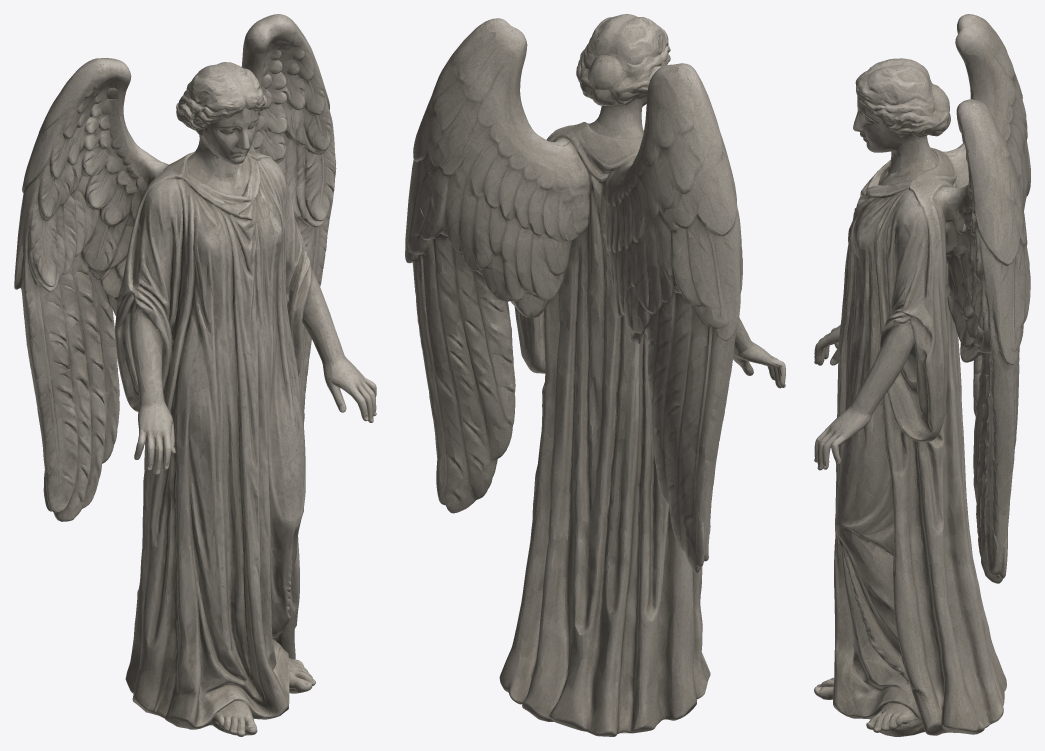
Rendered from angel-game.glb.
3 renders of one model, left to right at view 1: azimuth 30°, elevation 25°; view 2: azimuth 150°, elevation 25°; view 3: azimuth 270°, elevation 25°, orthographic. The views are drawn at different scales.
Parts seen in each view (by area): view 1: char1; view 2: char1; view 3: char1.
Boxes of the visible parts, left/top/right/bottom form: char1: left=14, top=14, right=376, bottom=736; char1: left=405, top=14, right=785, bottom=736; char1: left=814, top=14, right=1030, bottom=736.
Size of the model in its own units: 124 by 240 by 73.27.
1 material, 1 textured.
